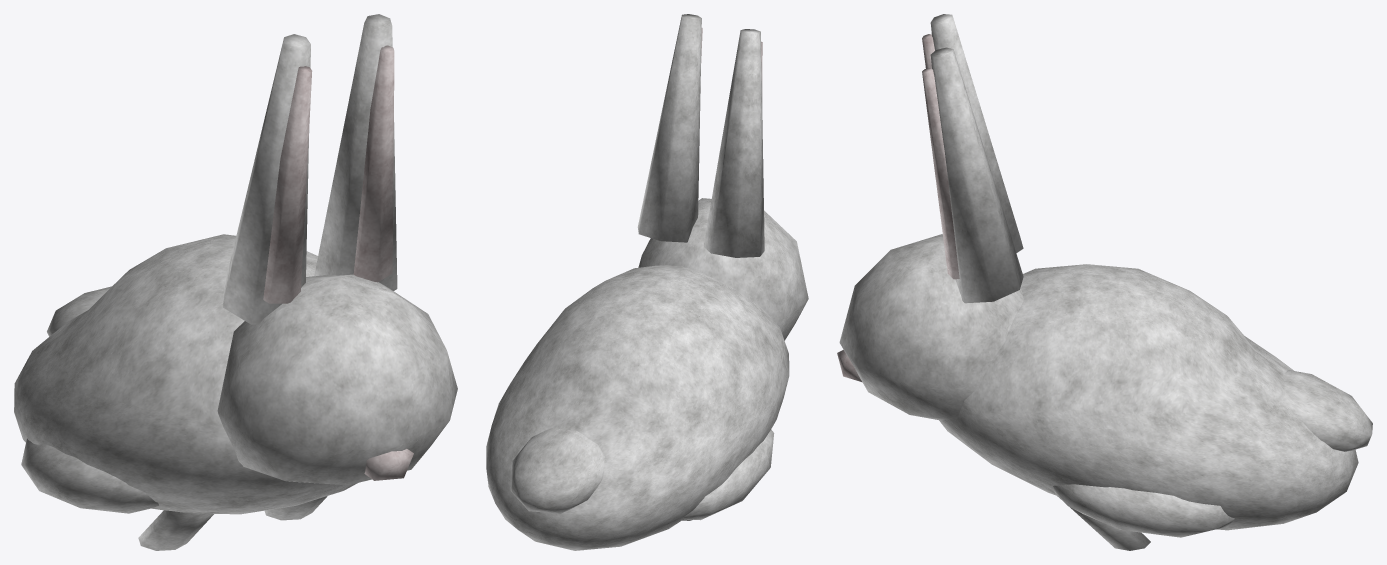
File: mob_kelinci_walk2.obj
3 views of the same model, side by side, from view 1: azimuth 30°, elevation 25°; view 2: azimuth 150°, elevation 25°; view 3: azimuth 270°, elevation 25° (orthographic). The views are drawn at different scales.
Visible parts, largest first — view 1: mob_kelinci_walk2; view 2: mob_kelinci_walk2; view 3: mob_kelinci_walk2.
Part boxes in pixels (x1=…): mob_kelinci_walk2: x1=14, y1=14, x2=457, y2=550; mob_kelinci_walk2: x1=486, y1=14, x2=808, y2=550; mob_kelinci_walk2: x1=837, y1=14, x2=1372, y2=550.
Size of the model in its own units: 0.2262 by 0.364 by 0.3664.
1 material, 1 textured.
